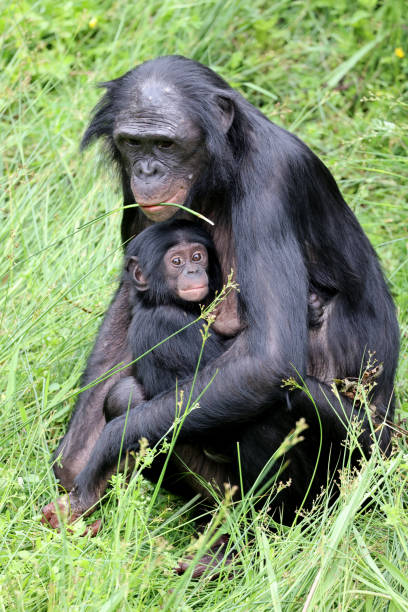chimpanzee: (76, 48, 283, 223), (89, 220, 218, 317)
